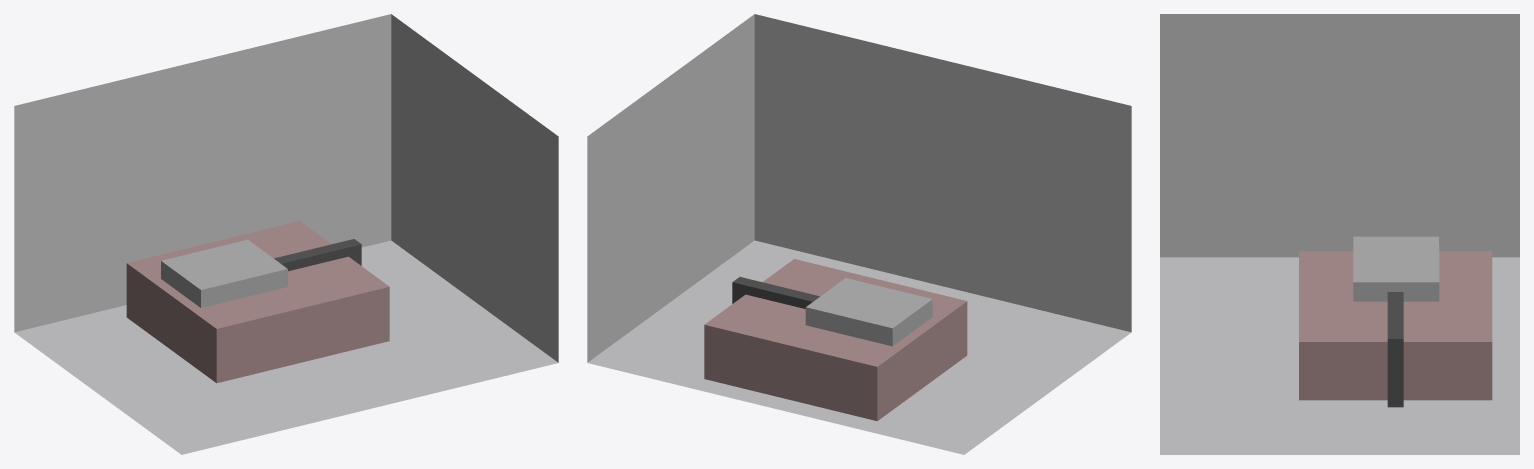
Rendered from optimised_layout.glb.
3 renders of one model, left to right at view 1: azimuth 30°, elevation 25°; view 2: azimuth 150°, elevation 25°; view 3: azimuth 270°, elevation 25°, orthographic. The views are drawn at different scales.
Visible parts, largest first — view 1: room, bed, tables, wardrobe, tv; view 2: room, bed, wardrobe, tables, tv; view 3: room, bed, wardrobe, tv, tables.
Part boxes in pixels (x1,y1,x2,y2): room: (14, 14, 558, 454); bed: (126, 221, 389, 383); tables: (161, 246, 270, 307); wardrobe: (179, 239, 287, 291); tv: (274, 239, 361, 271); room: (587, 14, 1131, 454); bed: (704, 259, 967, 421); wardrobe: (805, 278, 914, 341); tables: (824, 295, 932, 346); tv: (732, 277, 819, 308); room: (1160, 14, 1519, 454); bed: (1299, 251, 1492, 400); wardrobe: (1353, 246, 1439, 301); tv: (1387, 292, 1403, 407); tables: (1353, 236, 1438, 252).
Bounding box in the file's own units: 4.36 × 2.5 × 3.35.
